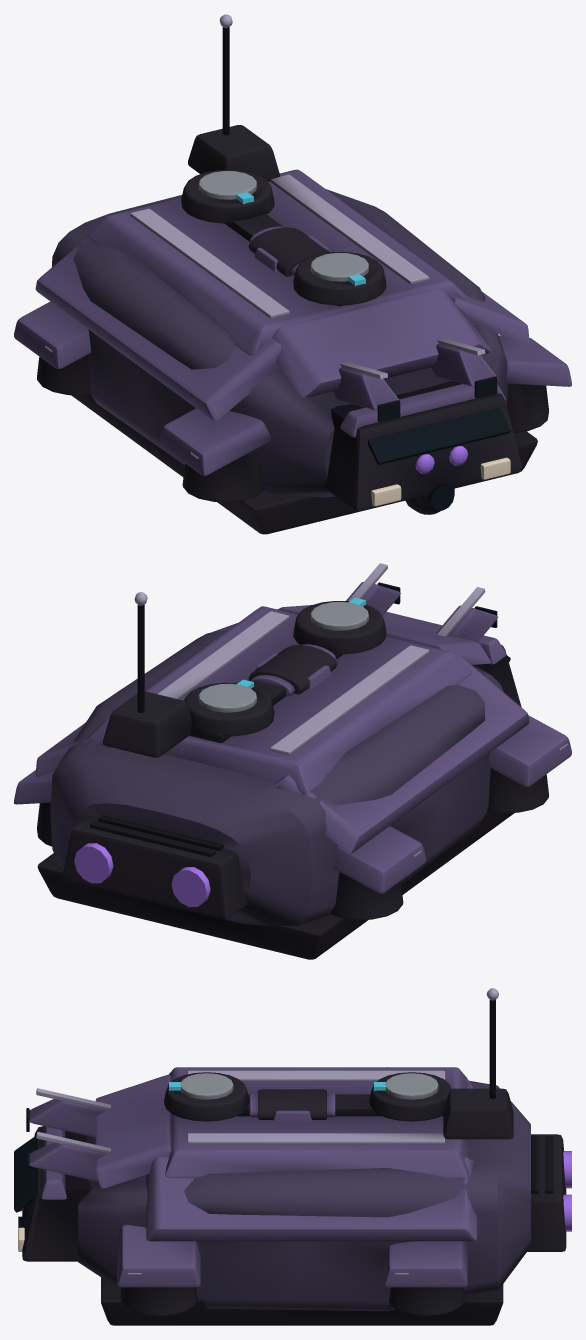
The model's file is ex_strider_2.glb.
3 views of the same model, one above another, from view 1: azimuth 30°, elevation 25°; view 2: azimuth 150°, elevation 25°; view 3: azimuth 270°, elevation 25° (orthographic). The views are drawn at different scales.
Parts seen in each view (by area): view 1: body, leg_upper; view 2: body, leg_upper; view 3: body, leg_upper.
Part boxes in pixels (<box>): body: <box>14,14,571,534</box>; leg_upper: <box>248,226,329,276</box>; body: <box>14,563,571,959</box>; leg_upper: <box>248,644,337,696</box>; body: <box>14,988,571,1325</box>; leg_upper: <box>249,1088,335,1121</box>.
Size of the model in its own units: 4.06 by 3.42 by 5.79.
